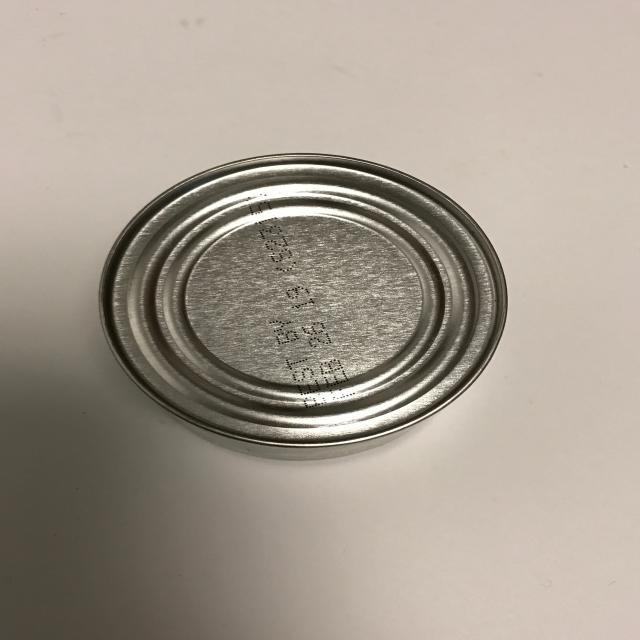metal: (96, 151, 510, 450)
